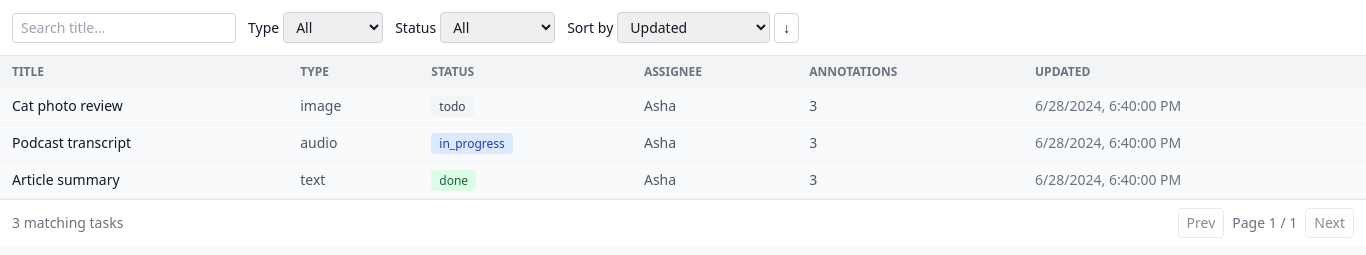
Test: Task list filtering (FilterBar + TaskTable) › filters visible rows when the user changes the type dropdown
Select "text" in the dropdown labelled "Type" at (333,28), box [283, 12, 383, 43]
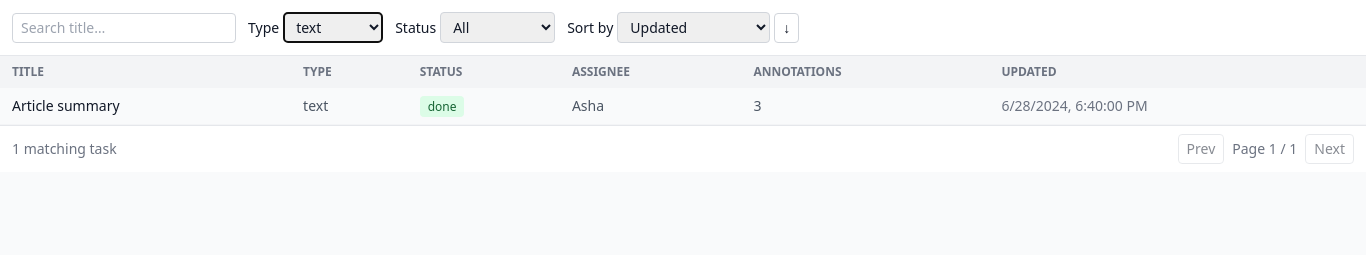
Check: the text "Article summary" is shown, box [0, 88, 291, 124]
Check: the text "Cat photo review" is gone
Check: the text "Podcast transcript" is gone
